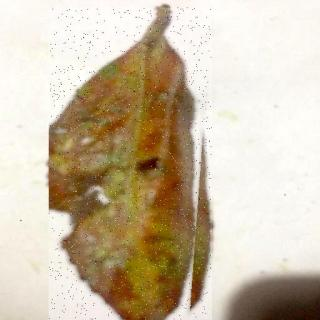Red Leaf Spot: (50, 8, 213, 320)
